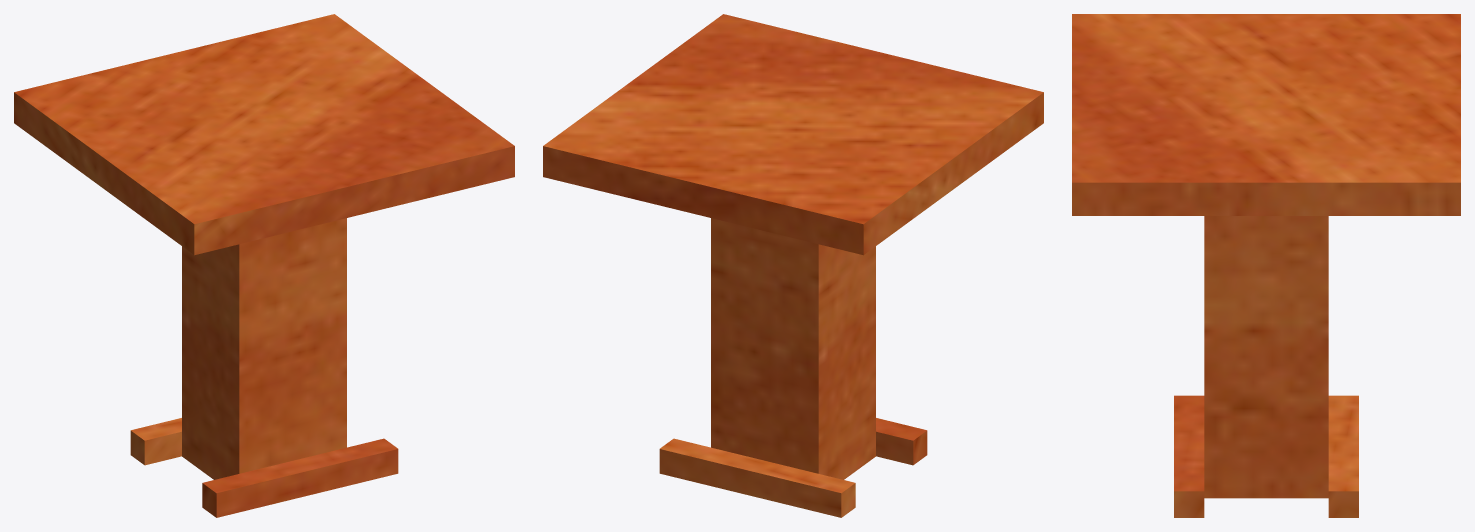
The model's file is table.FBX.
The picture shows the model from 3 angles, left to right: view 1: azimuth 30°, elevation 25°; view 2: azimuth 150°, elevation 25°; view 3: azimuth 270°, elevation 25°; orthographic projection. The views are drawn at different scales.
Parts seen in each view (by area): view 1: Box001; view 2: Box001; view 3: Box001.
Part boxes in pixels (x1,y1,x2,y2): Box001: (14,14,514,517); Box001: (543,14,1043,517); Box001: (1072,14,1460,517).
Bounding box in the file's own units: 68.84 × 70.84 × 67.11.
Materials: 1 (1 with a texture image).
